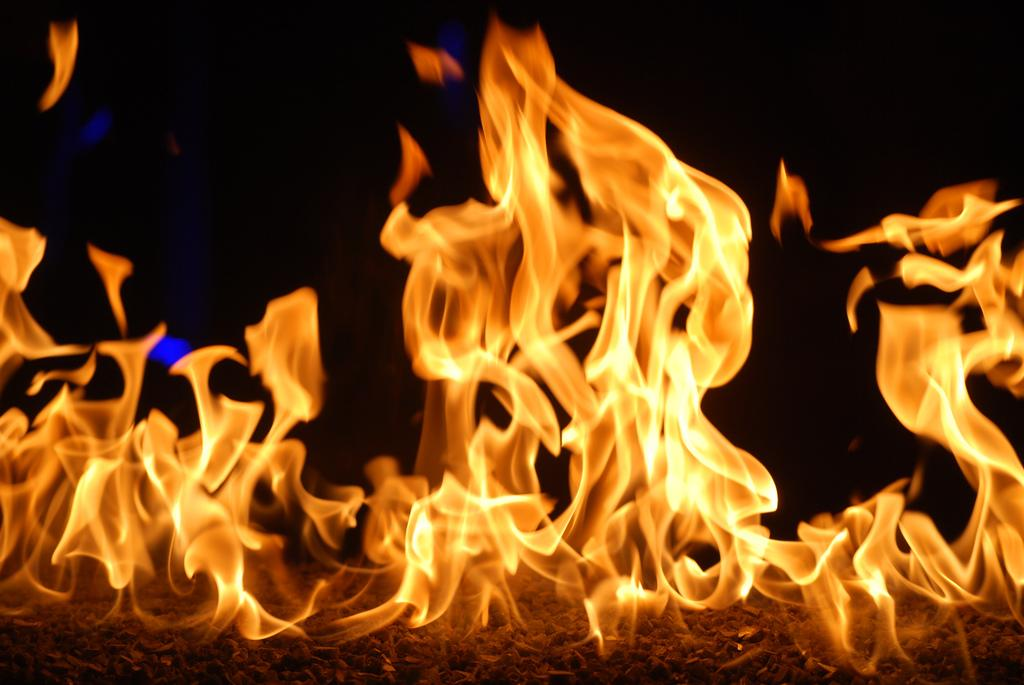fire: (607, 157, 715, 575), (37, 437, 255, 602), (407, 213, 557, 365), (395, 490, 538, 608), (890, 310, 975, 433)
